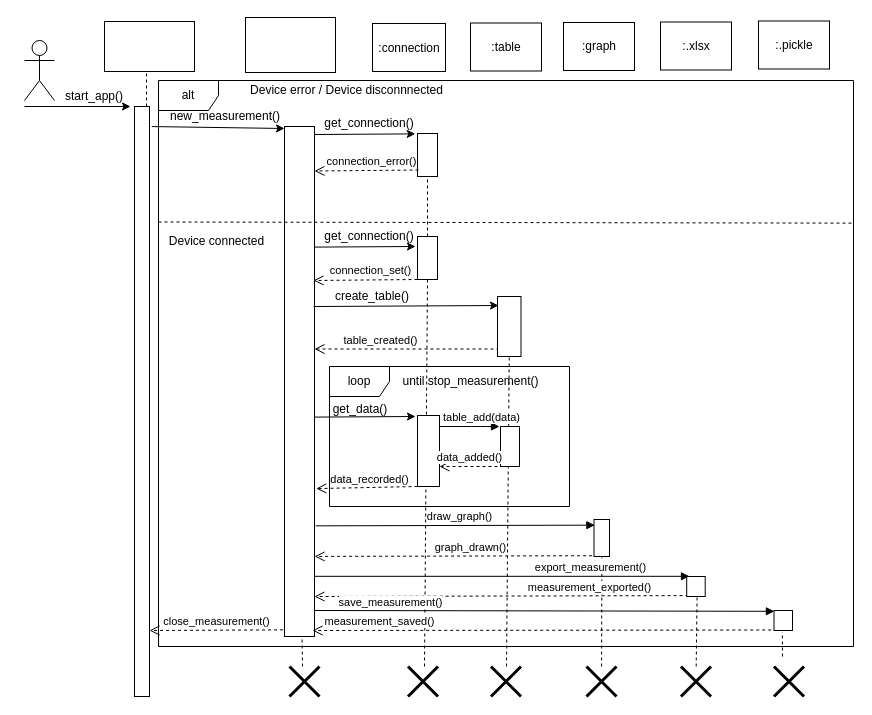
Some shapes in this 872 by 715 pixel diagram are drawn without their labels. The centre of each missing label's shape, as x and y in pixels:
":application" belongs at point 149,46.
":measurement" belongs at point 290,44.
"User" belongs at point 39,70.
